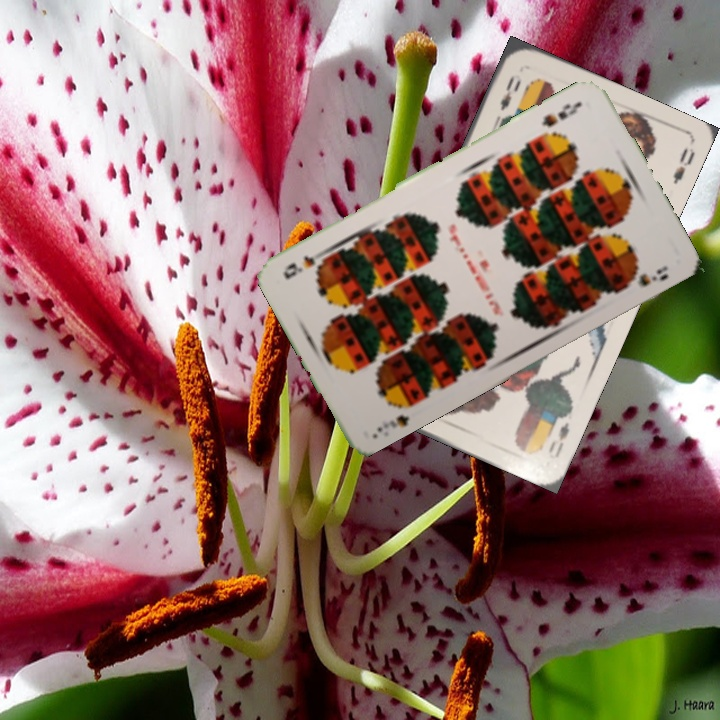EO: (543, 418, 572, 462), (496, 71, 524, 113)
S9: (372, 395, 419, 436), (537, 97, 585, 130)
